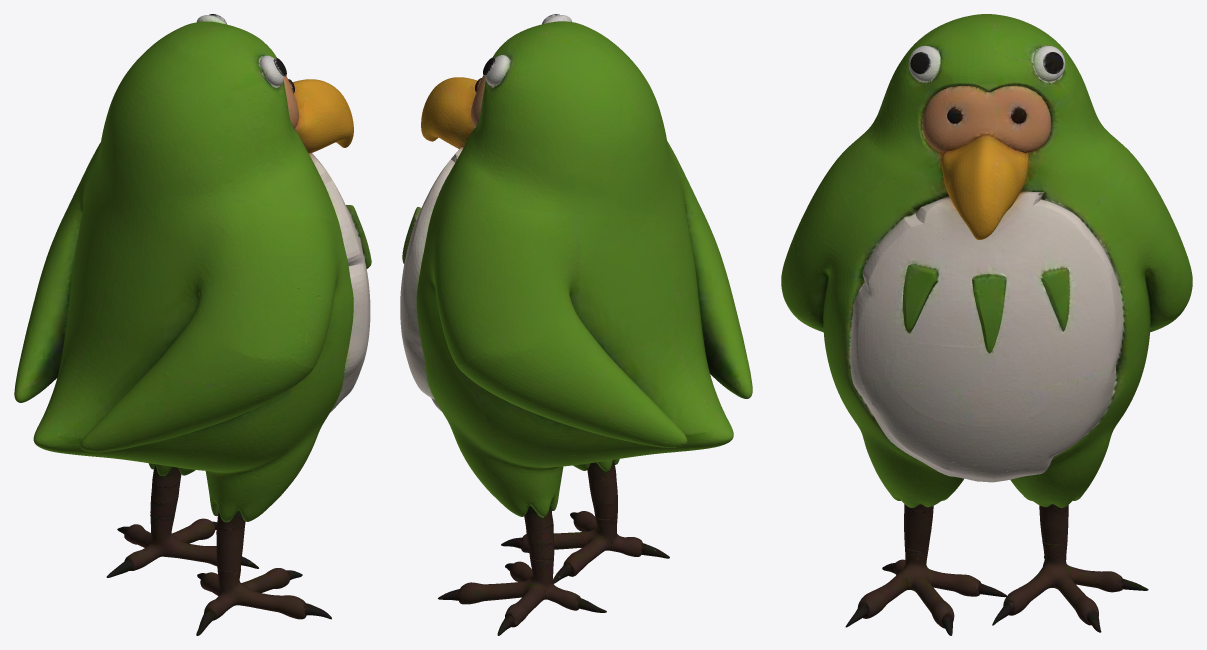
The model's file is green-bird.glb.
The picture shows the model from 3 angles, left to right: view 1: azimuth 30°, elevation 25°; view 2: azimuth 150°, elevation 25°; view 3: azimuth 270°, elevation 25°; orthographic projection. The views are drawn at different scales.
Parts seen in each view (by area): view 1: tripo_node_bd644bb4-d9ca-421b-967a-9dca47914ba1; view 2: tripo_node_bd644bb4-d9ca-421b-967a-9dca47914ba1; view 3: tripo_node_bd644bb4-d9ca-421b-967a-9dca47914ba1.
Boxes of the visible parts, x1,y1,x2,y2 form: tripo_node_bd644bb4-d9ca-421b-967a-9dca47914ba1: (14, 14, 371, 635); tripo_node_bd644bb4-d9ca-421b-967a-9dca47914ba1: (400, 14, 752, 635); tripo_node_bd644bb4-d9ca-421b-967a-9dca47914ba1: (781, 14, 1192, 635).
Size of the model in its own units: 0.5833 by 0.9794 by 0.63.
1 material, 1 textured.
